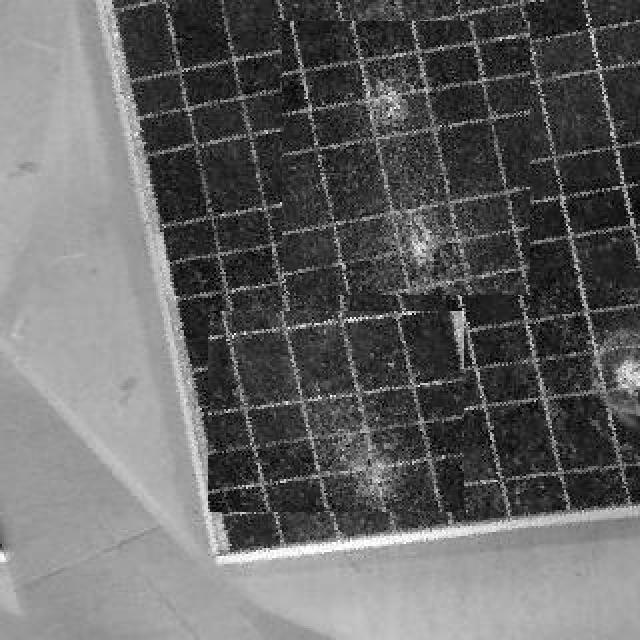Physical-damage: (282, 22, 530, 296), (208, 311, 464, 512), (512, 332, 640, 524)
